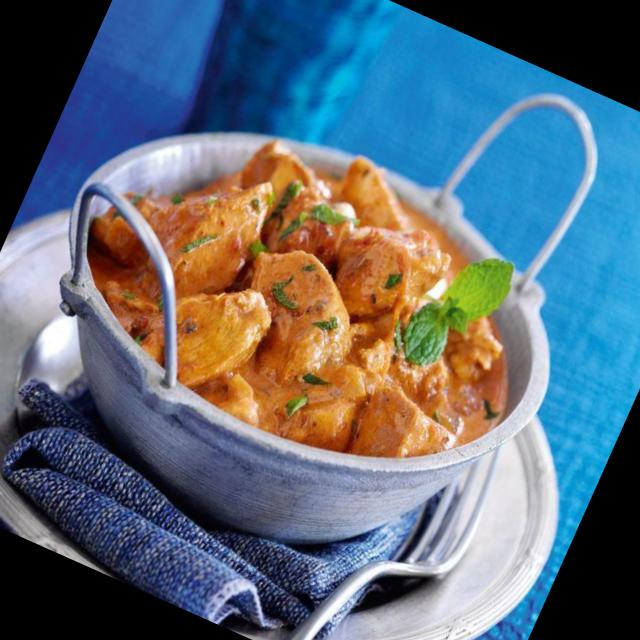chicken: (80, 112, 550, 488)
